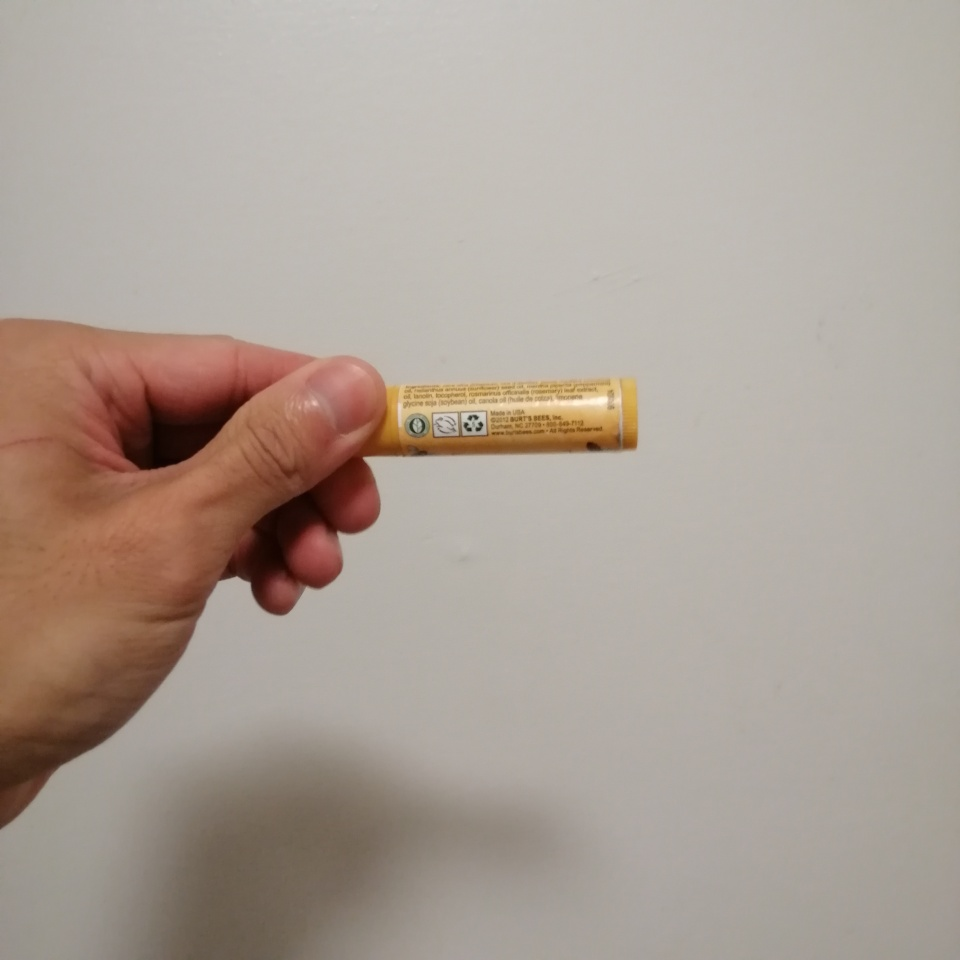chapstick: (348, 378, 638, 458)
